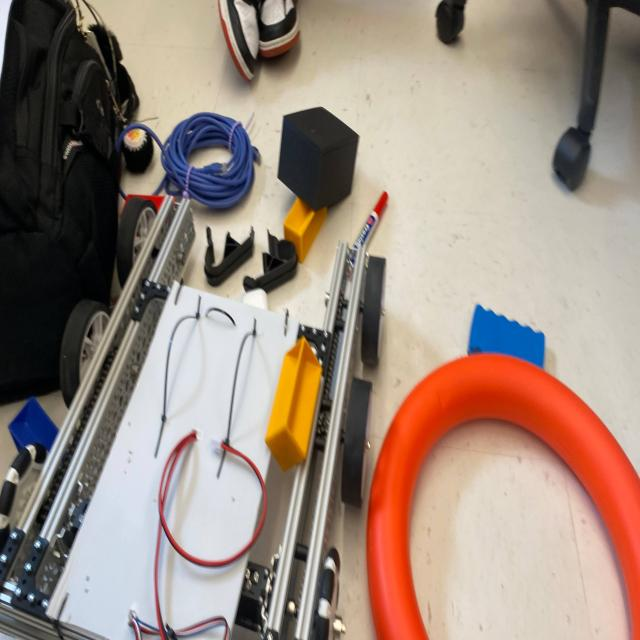blue-specimen: (9, 396, 58, 452)
red-specimen: (121, 194, 165, 216)
yellow-specimen: (265, 337, 322, 471), (284, 198, 327, 263)
